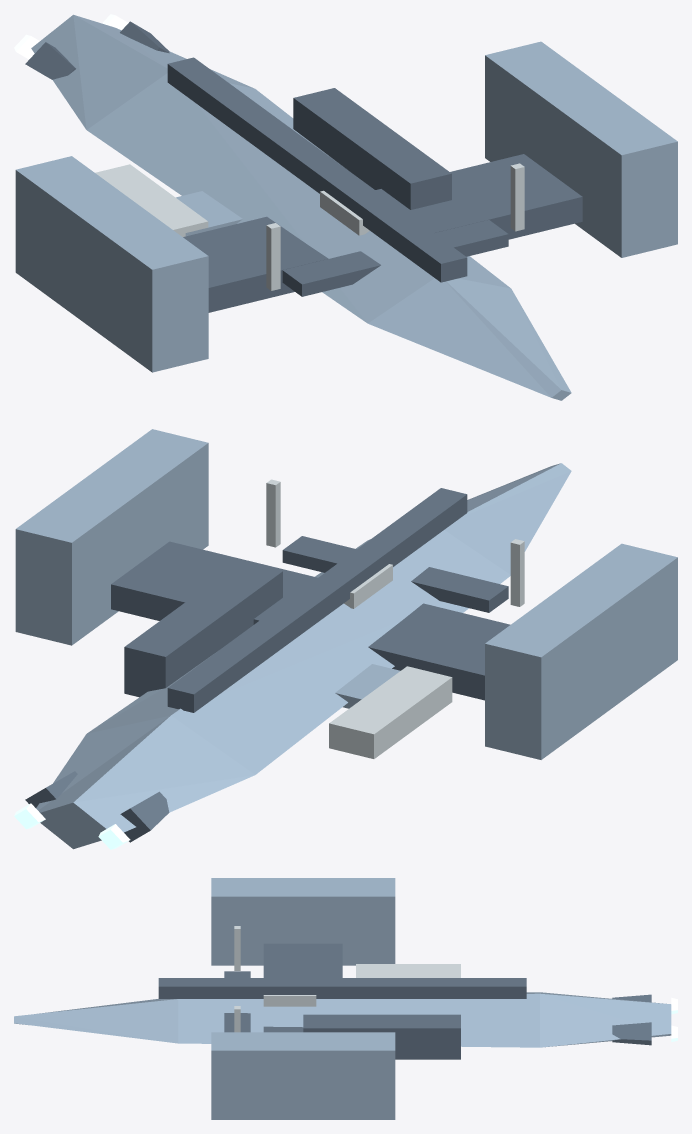
3 views of the same model, one above another, from view 1: azimuth 30°, elevation 25°; view 2: azimuth 150°, elevation 25°; view 3: azimuth 270°, elevation 25° (orthographic). The views are drawn at different scales.
Bounding box in the file's own units: 6.22 × 1.37 × 10.1.
